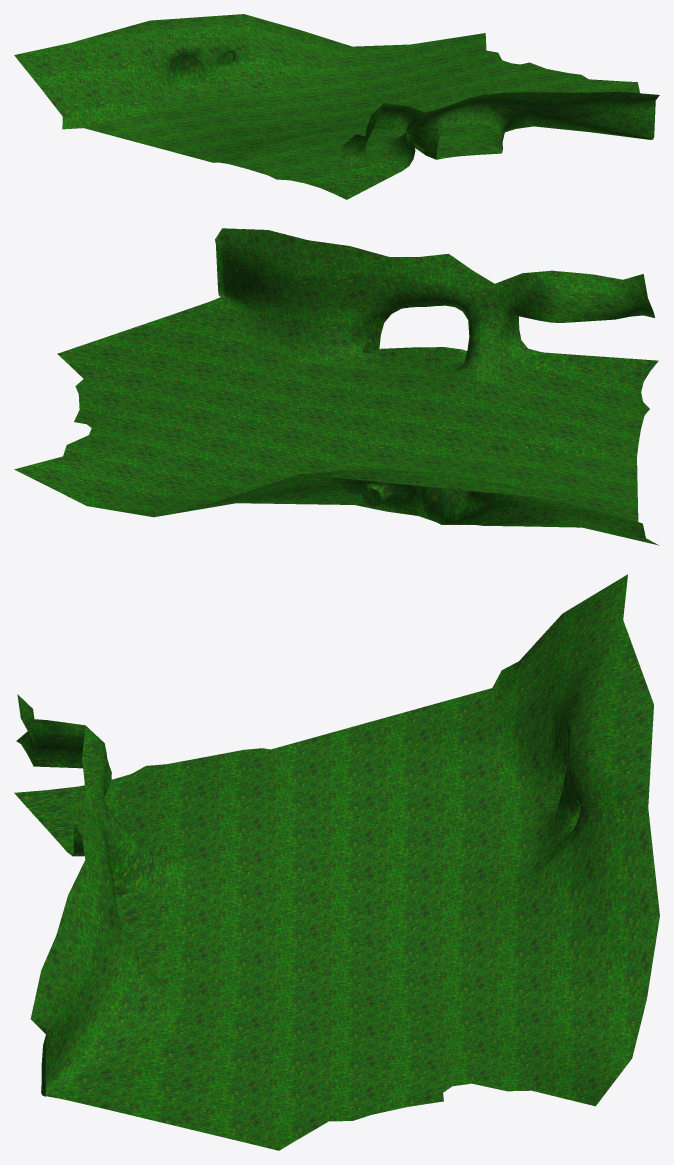
File: HTOWN01_PS.fbx
3 views of the same model, one above another, from view 1: azimuth 30°, elevation 25°; view 2: azimuth 150°, elevation 25°; view 3: azimuth 270°, elevation 25° (orthographic). The views are drawn at different scales.
Parts seen in each view (by area): view 1: HTOWN01_PS; view 2: HTOWN01_PS; view 3: HTOWN01_PS.
Boxes of the visible parts, <box> form: HTOWN01_PS: <box>14,14,659,199</box>; HTOWN01_PS: <box>14,228,659,545</box>; HTOWN01_PS: <box>14,574,659,1150</box>.
Bounding box in the file's own units: 389805 × 73517 × 242602.
2 materials, 2 textured.
